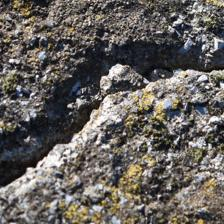Crack: (1, 86, 99, 135), (49, 96, 143, 140)
